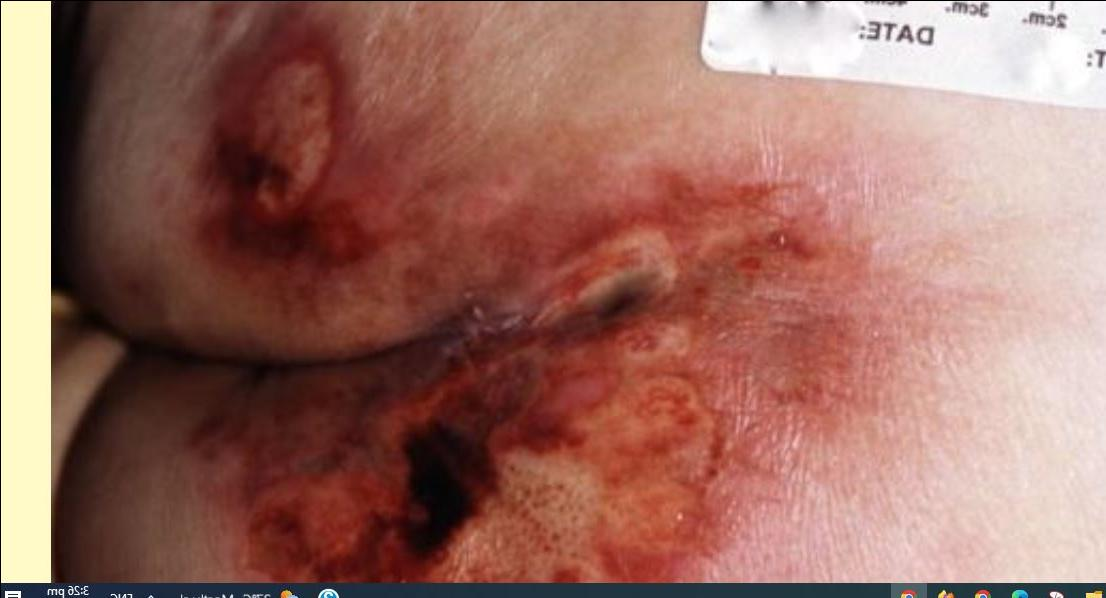Stage3: (319, 186, 742, 577)
